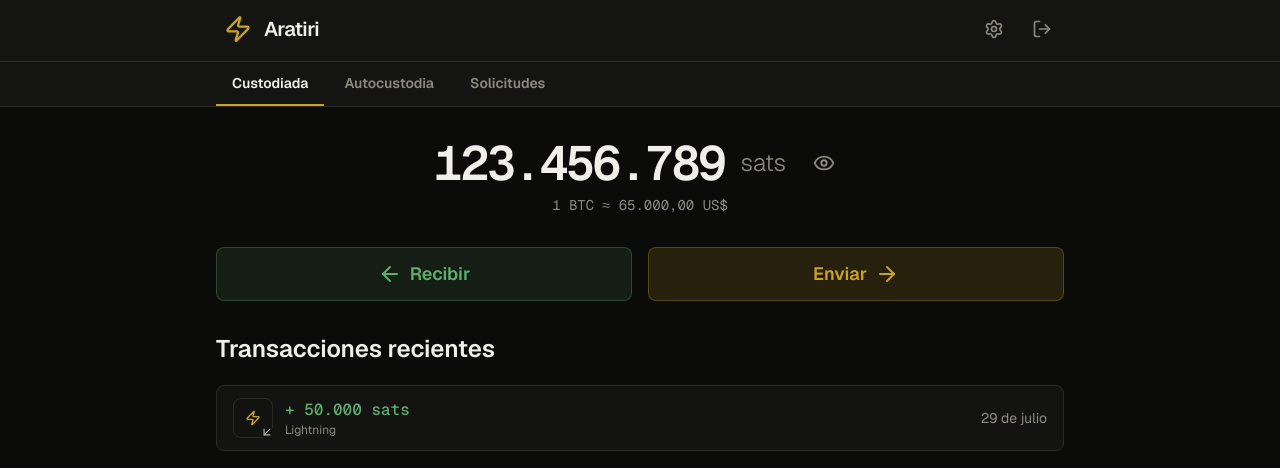
Test case: Dashboard currency display polish › shows fiat hero as a plain amount plus exactly one ISO unit control
Click the button "sats": (763, 163) [732,141,794,185]
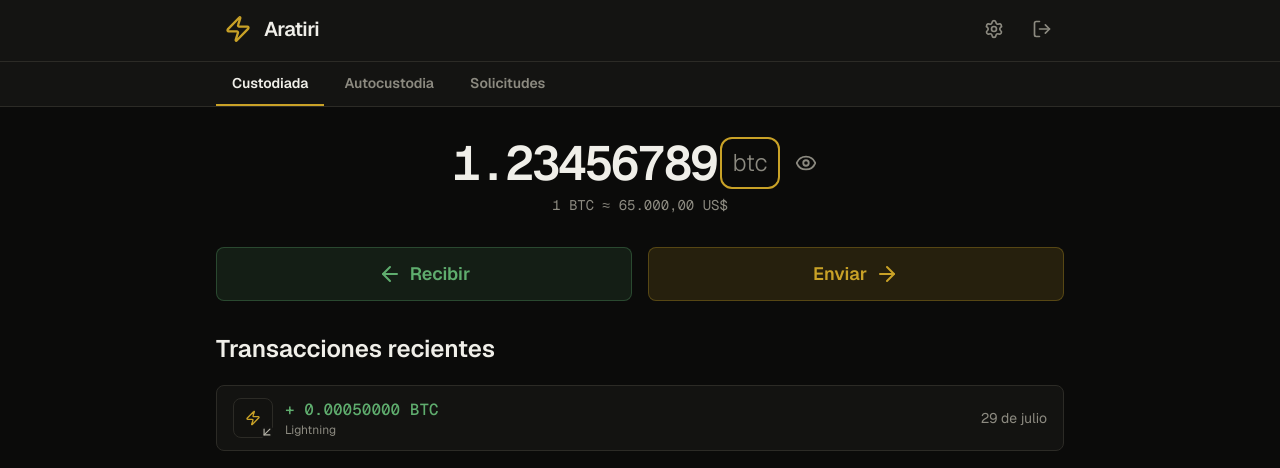
Click the button "btc": (750, 163) [724,141,776,185]
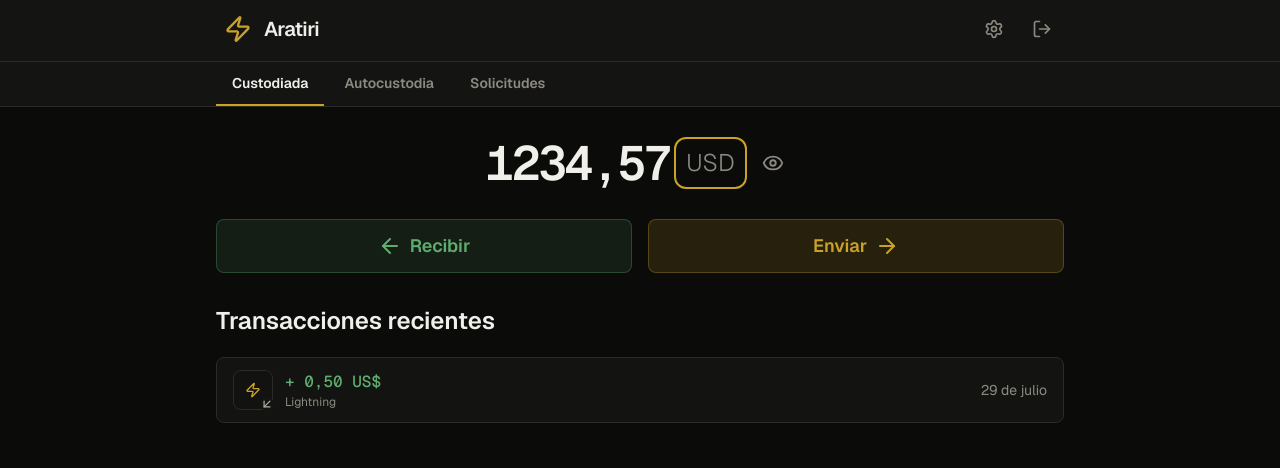
Expected: the number of buttons "USD" is 1, [678,141,743,185]
Expected: the button "USD" is shown, [678,141,743,185]
Expected: the text "1 BTC ≈" is gone
